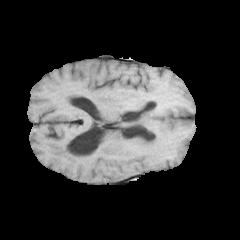glioma: (46, 112, 189, 167)
